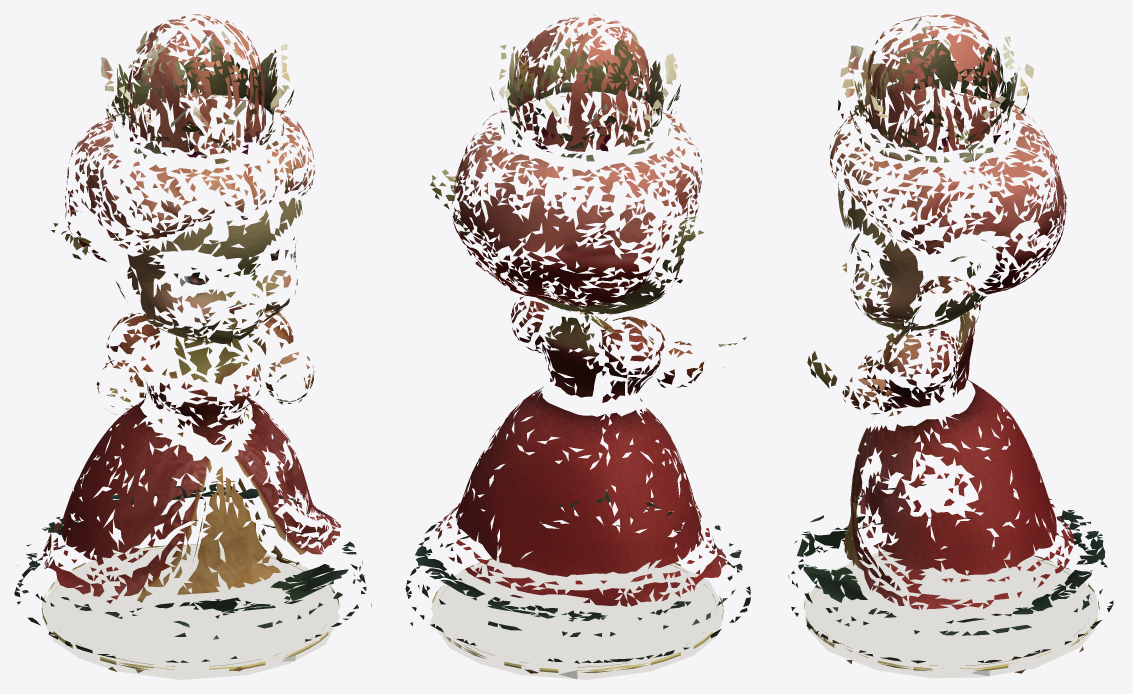
File: queen-swamp-orchessa-10k.glb
3 renders of one model, left to right at view 1: azimuth 30°, elevation 25°; view 2: azimuth 150°, elevation 25°; view 3: azimuth 270°, elevation 25°, orthographic.
Visible parts, largest first — view 1: tmp1qrwcitr.ply, FactionPedestal, FactionTrimRing; view 2: tmp1qrwcitr.ply, FactionPedestal, FactionTrimRing; view 3: tmp1qrwcitr.ply, FactionPedestal, FactionTrimRing.
Boxes of the visible parts, x1,y1,x2,y2 form: tmp1qrwcitr.ply: [14, 14, 371, 672]; FactionPedestal: [41, 544, 339, 679]; FactionTrimRing: [41, 544, 339, 671]; tmp1qrwcitr.ply: [405, 14, 750, 673]; FactionPedestal: [430, 551, 723, 679]; FactionTrimRing: [432, 553, 723, 672]; tmp1qrwcitr.ply: [788, 14, 1113, 673]; FactionPedestal: [805, 546, 1098, 678]; FactionTrimRing: [803, 546, 1099, 671].
Bounding box in the file's own units: 0.8691 × 1.65 × 0.8398.
3 materials, 1 textured.
